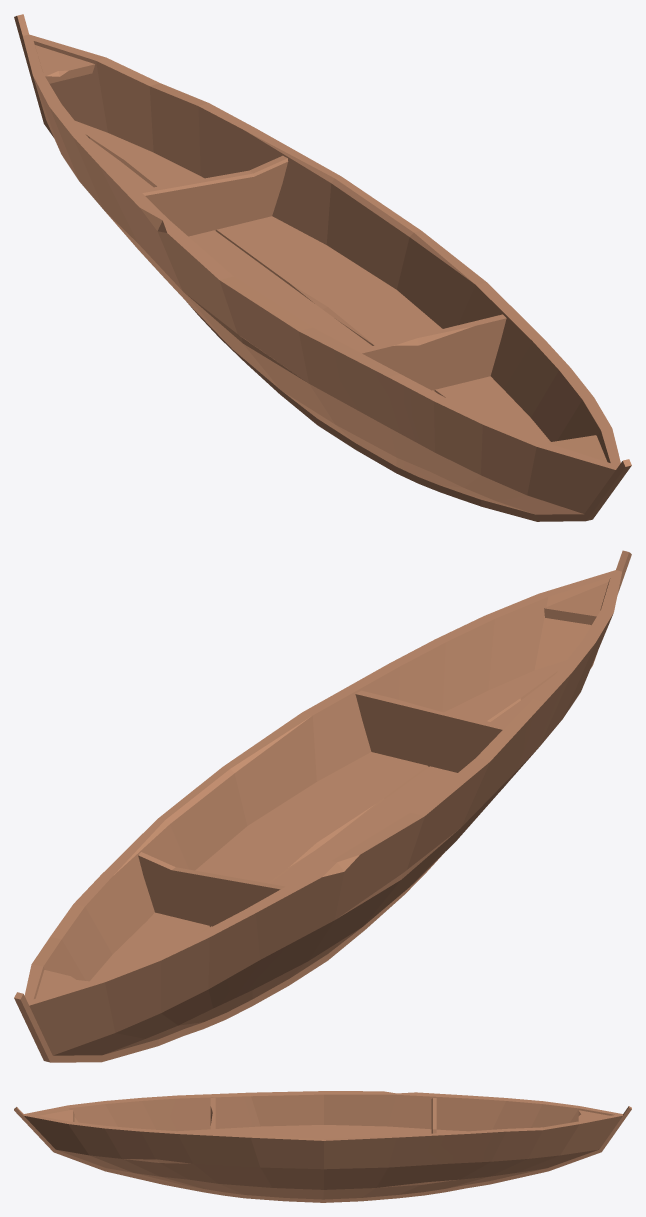
File: fisher_6.FBX
The picture shows the model from 3 angles, top to bottom: view 1: azimuth 30°, elevation 25°; view 2: azimuth 150°, elevation 25°; view 3: azimuth 270°, elevation 25°; orthographic projection. The views are drawn at different scales.
Parts seen in each view (by area): view 1: fisher_6; view 2: fisher_6; view 3: fisher_6.
Boxes of the visible parts, x1=… form: fisher_6: x1=14, y1=14, x2=631, y2=521; fisher_6: x1=14, y1=550, x2=631, y2=1062; fisher_6: x1=14, y1=1091, x2=631, y2=1202.
Bounding box in the file's own units: 46.44 × 41.22 × 243.
